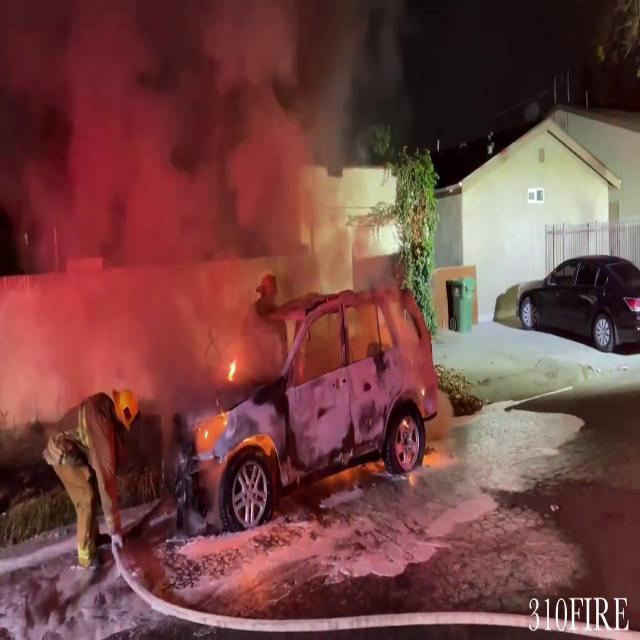Smoke: (0, 0, 374, 368)
